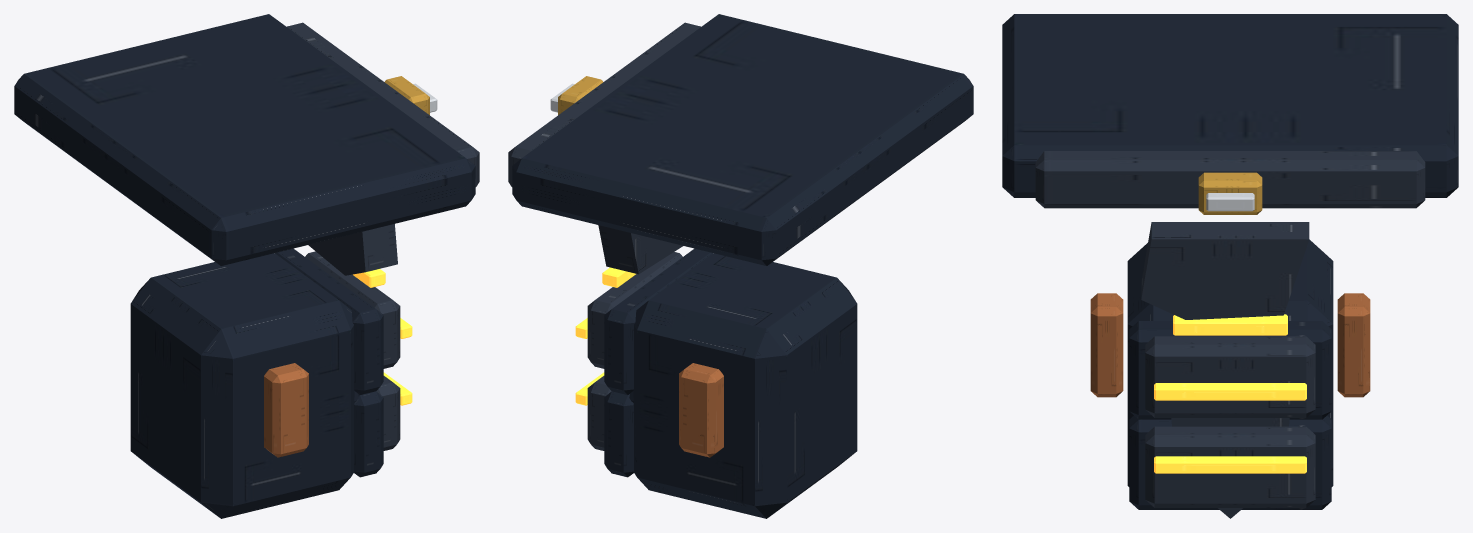
The model's file is demo.glb.
3 views of the same model, side by side, from view 1: azimuth 30°, elevation 25°; view 2: azimuth 150°, elevation 25°; view 3: azimuth 270°, elevation 25° (orthographic). The views are drawn at different scales.
Parts seen in each view (by area): view 1: hips, leg_L, leg_R, shin_L; view 2: hips, leg_L, shin_L; view 3: hips, leg_L, shin_L, leg_R.
Part boxes in pixels (x1,y1,x2,y2): hips: [14, 14, 479, 265]; leg_L: [130, 248, 412, 518]; leg_R: [264, 363, 308, 457]; shin_L: [308, 224, 397, 402]; hips: [508, 14, 973, 265]; leg_L: [575, 248, 857, 518]; shin_L: [598, 225, 682, 402]; hips: [1002, 14, 1458, 214]; leg_L: [1127, 239, 1370, 509]; shin_L: [1141, 222, 1309, 518]; leg_R: [1090, 293, 1123, 397].
Bounding box in the file's own units: 0.232 × 0.256 × 0.266.
6 materials, 6 textured.
